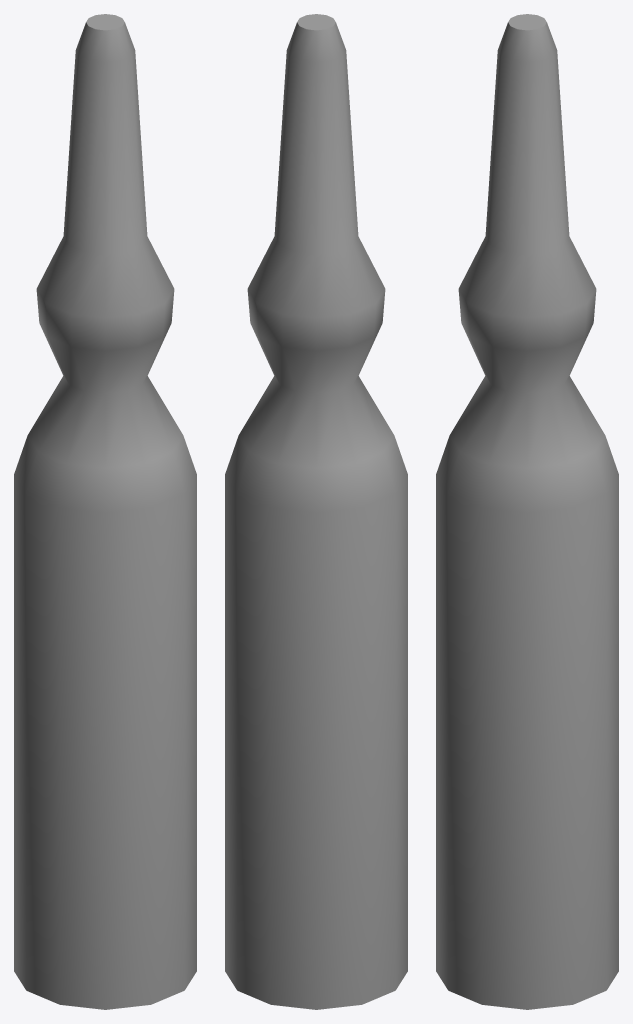
File: ampule3.FBX
3 renders of one model, left to right at view 1: azimuth 30°, elevation 25°; view 2: azimuth 150°, elevation 25°; view 3: azimuth 270°, elevation 25°, orthographic.
Parts seen in each view (by area): view 1: ampule3; view 2: ampule3; view 3: ampule3.
Boxes of the visible parts, x1,y1,x2,y2 form: ampule3: [14, 14, 196, 1009]; ampule3: [225, 14, 407, 1009]; ampule3: [436, 14, 618, 1009].
Bounding box in the file's own units: 1.01 × 1.01 × 5.79.
